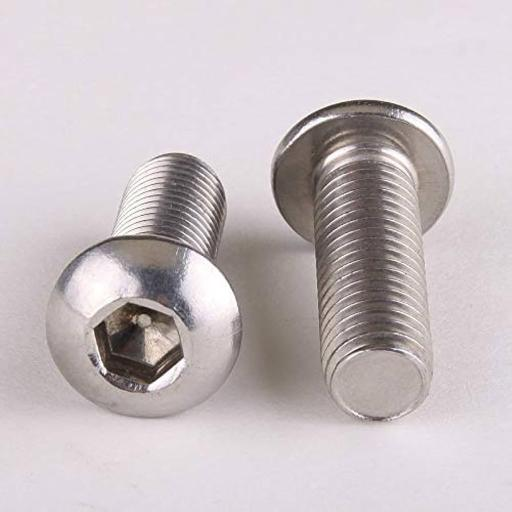Hex-Allen: (44, 228, 245, 422)
